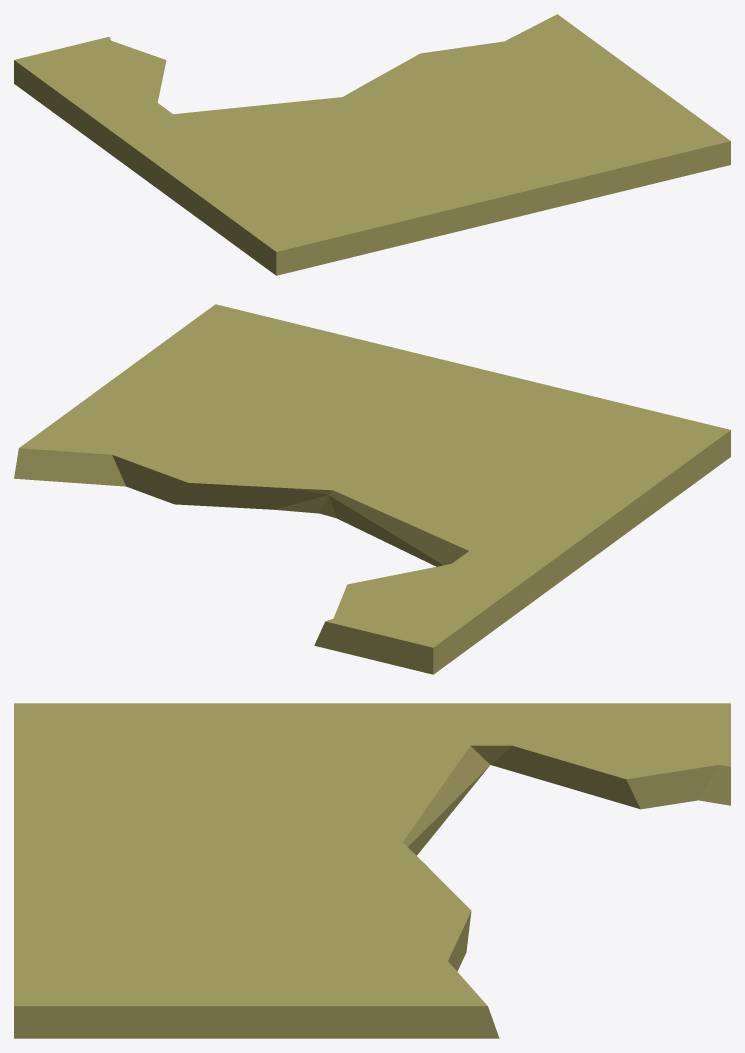
File: Ceiling_002.glb
3 views of the same model, one above another, from view 1: azimuth 30°, elevation 25°; view 2: azimuth 150°, elevation 25°; view 3: azimuth 270°, elevation 25° (orthographic). The views are drawn at different scales.
Parts seen in each view (by area): view 1: Ceiling.002; view 2: Ceiling.002; view 3: Ceiling.002.
Boxes of the visible parts, left/top/right/bottom form: Ceiling.002: left=14, top=14, right=730, bottom=275; Ceiling.002: left=14, top=304, right=730, bottom=674; Ceiling.002: left=14, top=703, right=730, bottom=1038.
Bounding box in the file's own units: 2 × 0.1 × 2.
